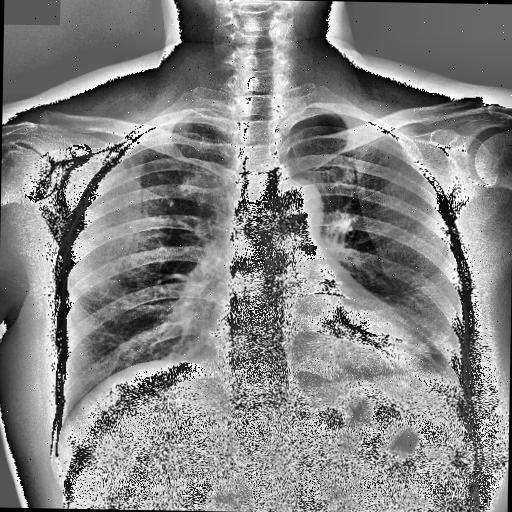0- Aortic enlargement: (270, 176, 325, 246), (264, 174, 326, 228)
11- Pleural thickening: (146, 122, 223, 138)
3- Cardiomegaly: (201, 312, 439, 374), (197, 332, 433, 394), (203, 314, 434, 376)
